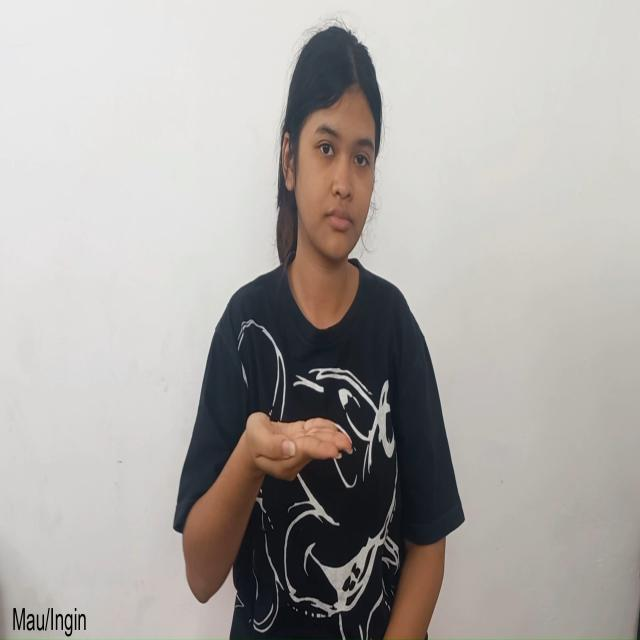Mau-Ingin -BISINDO-: (174, 394, 364, 606)
